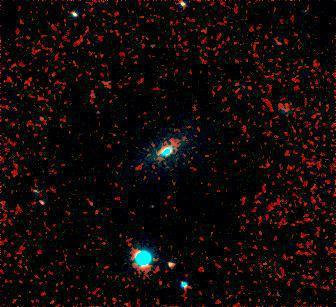star: (157, 251, 187, 281)
